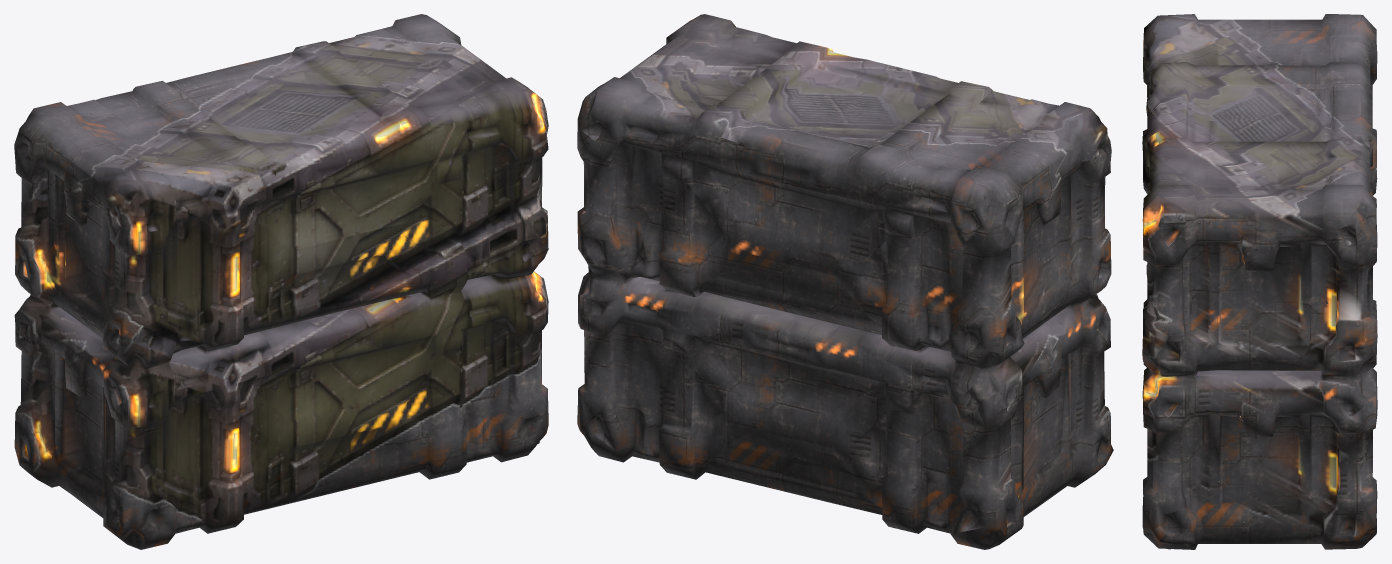
The model's file is Prop_Containers.fbx.
3 renders of one model, left to right at view 1: azimuth 30°, elevation 25°; view 2: azimuth 150°, elevation 25°; view 3: azimuth 270°, elevation 25°, orthographic. The views are drawn at different scales.
Parts seen in each view (by area): view 1: Prop_Containers; view 2: Prop_Containers; view 3: Prop_Containers.
Boxes of the visible parts, <box> form: Prop_Containers: <box>14,14,548,549</box>; Prop_Containers: <box>577,14,1113,549</box>; Prop_Containers: <box>1142,14,1377,549</box>.
Bounding box in the file's own units: 3.18 × 2.6 × 1.57.
